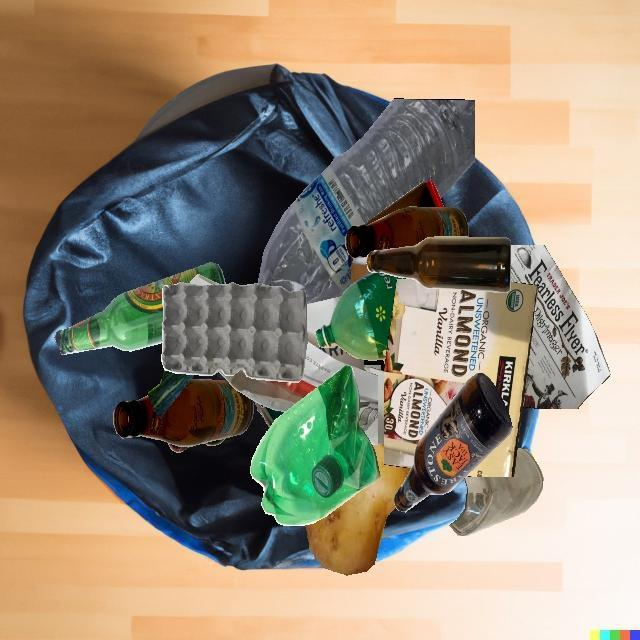biowaste: (305, 443, 411, 575), (148, 370, 194, 418)
cardboard: (384, 279, 538, 477), (161, 282, 307, 382), (362, 179, 444, 225), (351, 256, 371, 285)
glass: (394, 373, 512, 512), (54, 262, 225, 355), (113, 379, 254, 446), (366, 236, 511, 293), (450, 448, 543, 536), (346, 207, 469, 258), (168, 442, 190, 452), (204, 438, 226, 445)
paper: (219, 296, 378, 445), (510, 245, 610, 409), (364, 366, 384, 444), (255, 401, 285, 428)
plastic: (258, 98, 475, 305), (250, 366, 380, 526), (315, 272, 412, 361), (383, 358, 386, 365)
